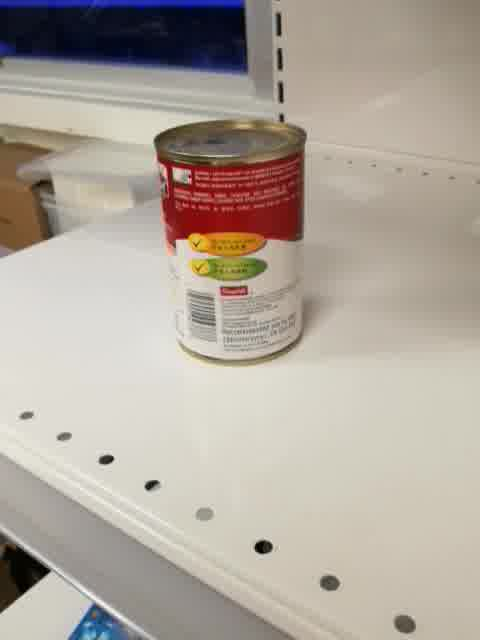tomatosoup: (151, 116, 310, 366)
